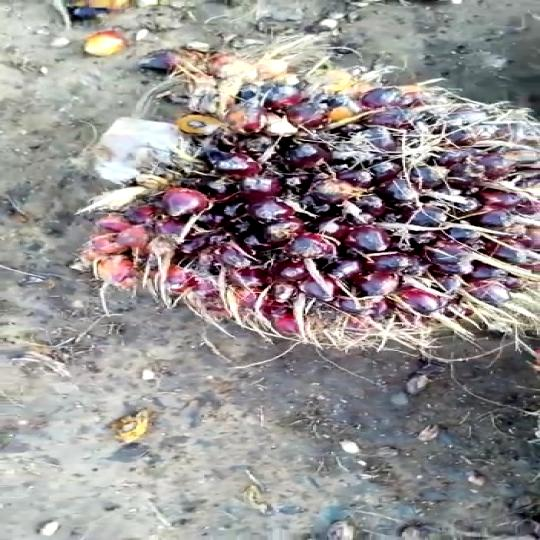kurang masak: (89, 49, 540, 376)
